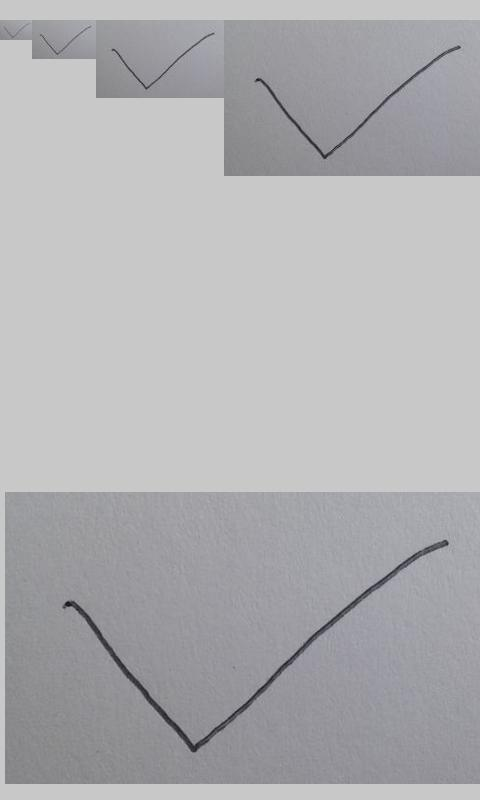check_box: (62, 541, 448, 753), (256, 45, 461, 160), (112, 33, 214, 90), (40, 26, 91, 55), (3, 23, 29, 38)
